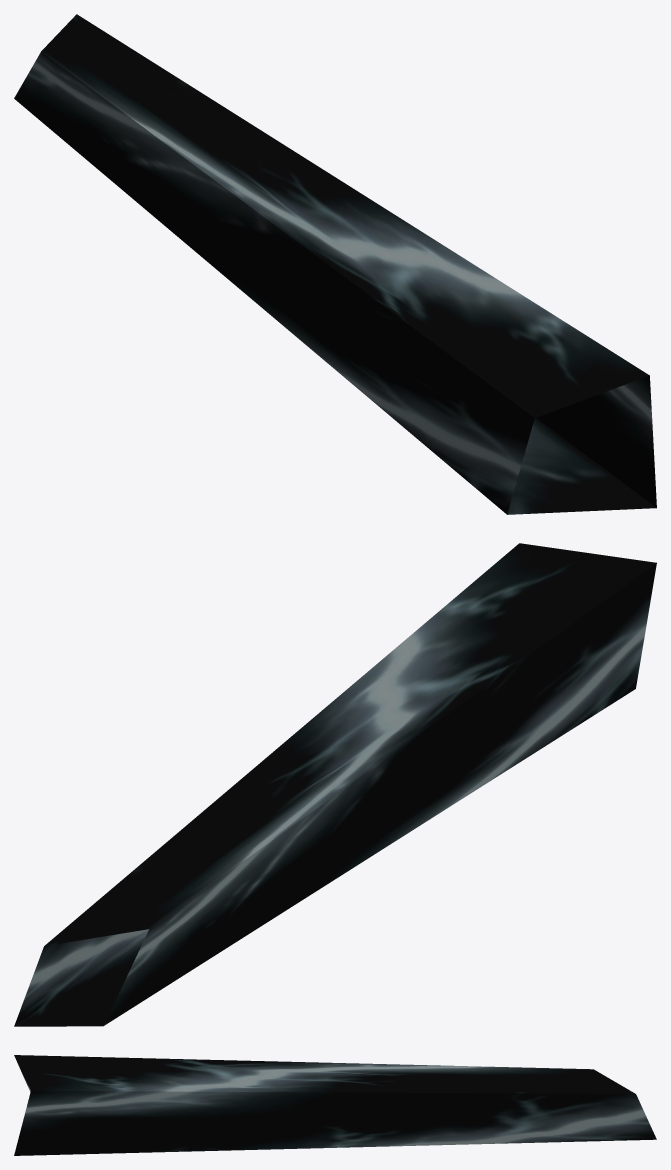
File: pir_m_efx_chr_swordThunders.fbx
3 renders of one model, top to bottom at view 1: azimuth 30°, elevation 25°; view 2: azimuth 150°, elevation 25°; view 3: azimuth 270°, elevation 25°, orthographic. The views are drawn at different scales.
Visible parts, largest first — view 1: pCube1; view 2: pCube1; view 3: pCube1.
Boxes of the visible parts, bbox=[...] form: pCube1: bbox=[14, 14, 656, 514]; pCube1: bbox=[14, 543, 656, 1026]; pCube1: bbox=[14, 1055, 656, 1155].
Bounding box in the file's own units: 40.14 × 34.58 × 299.
Materials: 1 (1 with a texture image).
